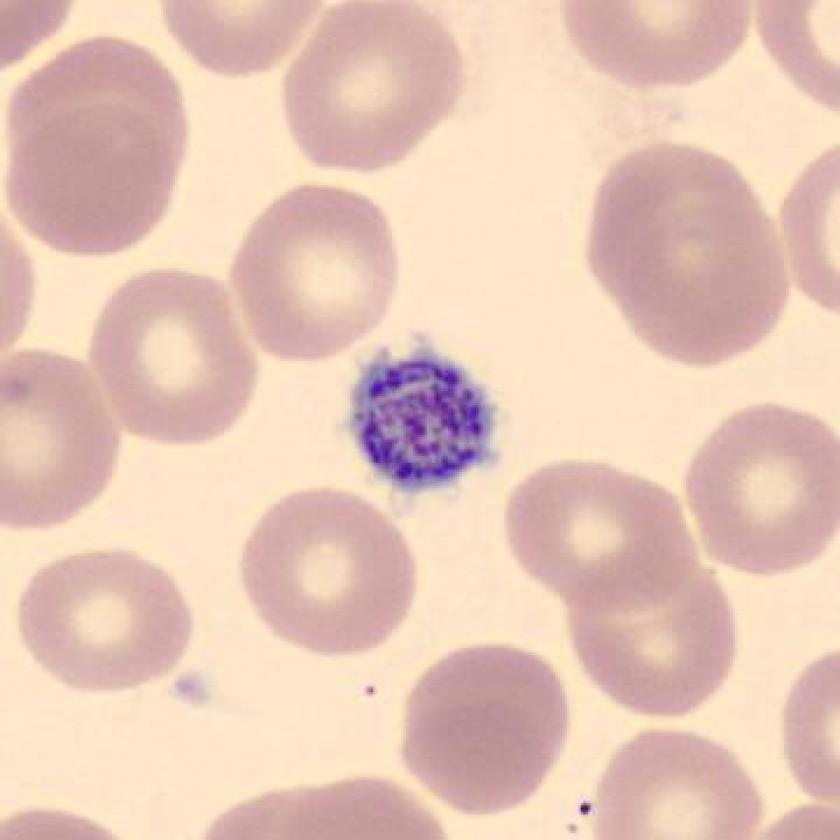platelets: (330, 325, 514, 510)
